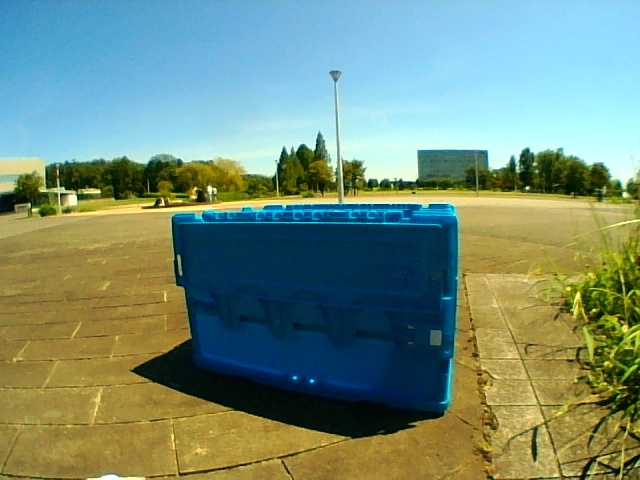blue_box: (192, 213, 453, 356)
